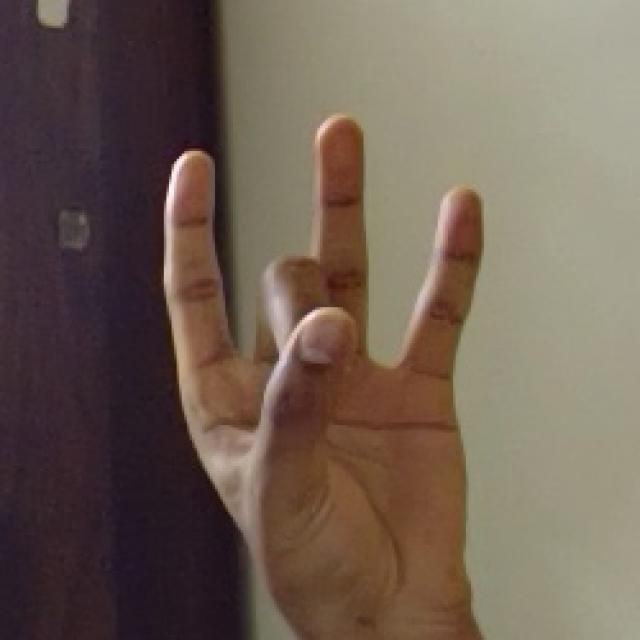Numeric-8: (163, 114, 486, 607)
